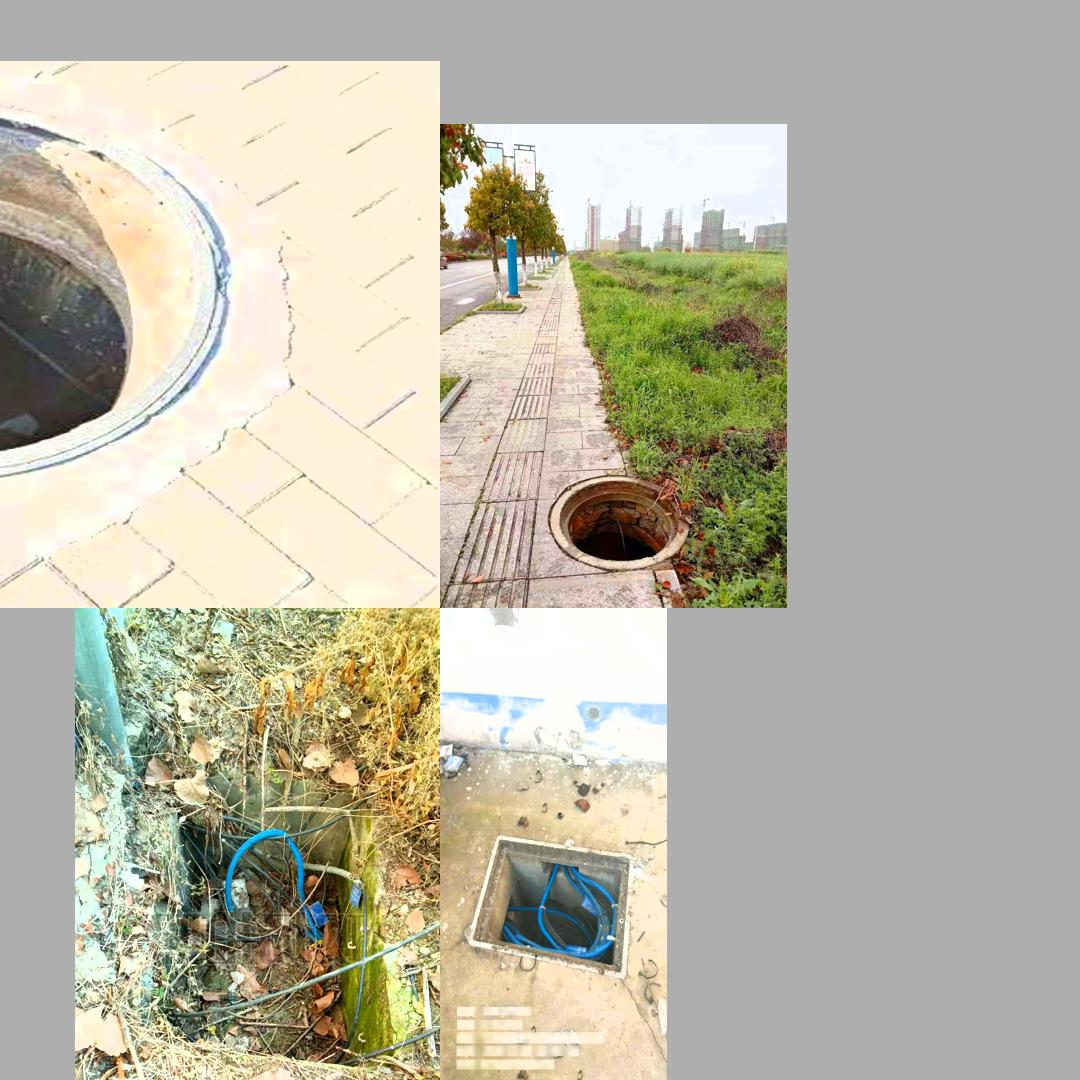lose: (0, 74, 274, 526), (122, 776, 396, 1073), (467, 834, 634, 979), (550, 475, 689, 569)
